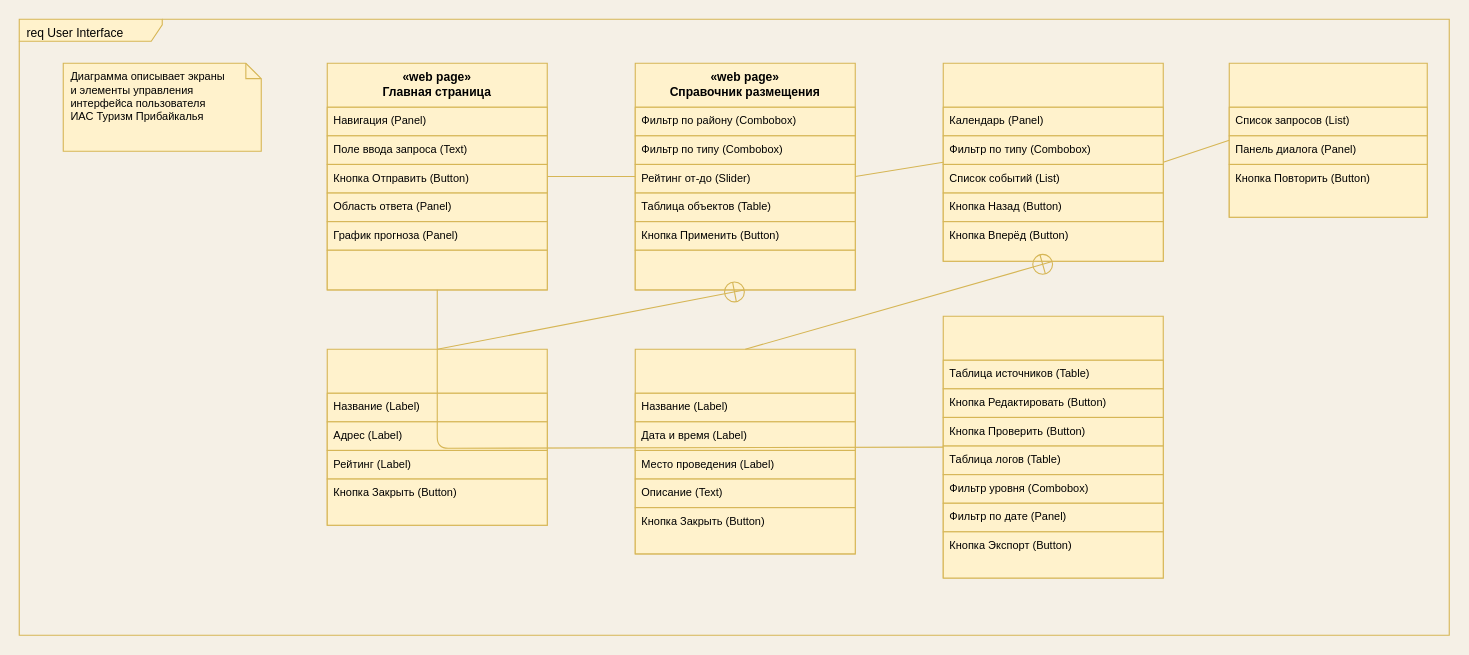
The diagram is 1469 pixels wide and 655 high, and some of its shapes have lost their labels. Here are the shapes that lost their labels. From the top down, the box of each, then its label:
(1228, 62, 1427, 217): «web page» История запросов
(942, 62, 1163, 261): «web page» Календарь событий
(326, 249, 547, 290): Ссылки на источники (List)
(634, 249, 855, 290): Кнопка На карте (Button)
(326, 348, 547, 525): «control» Карточка объекта
(634, 348, 855, 554): «control» Карточка события
(942, 315, 1163, 578): «web page» Панель администратора
